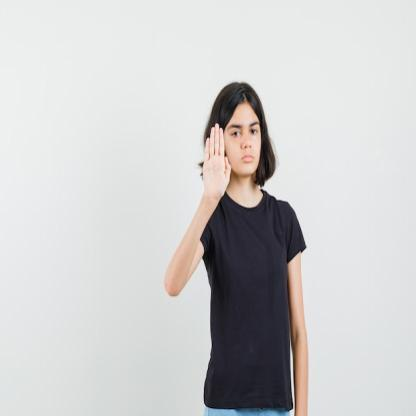stop: (199, 121, 235, 204)
